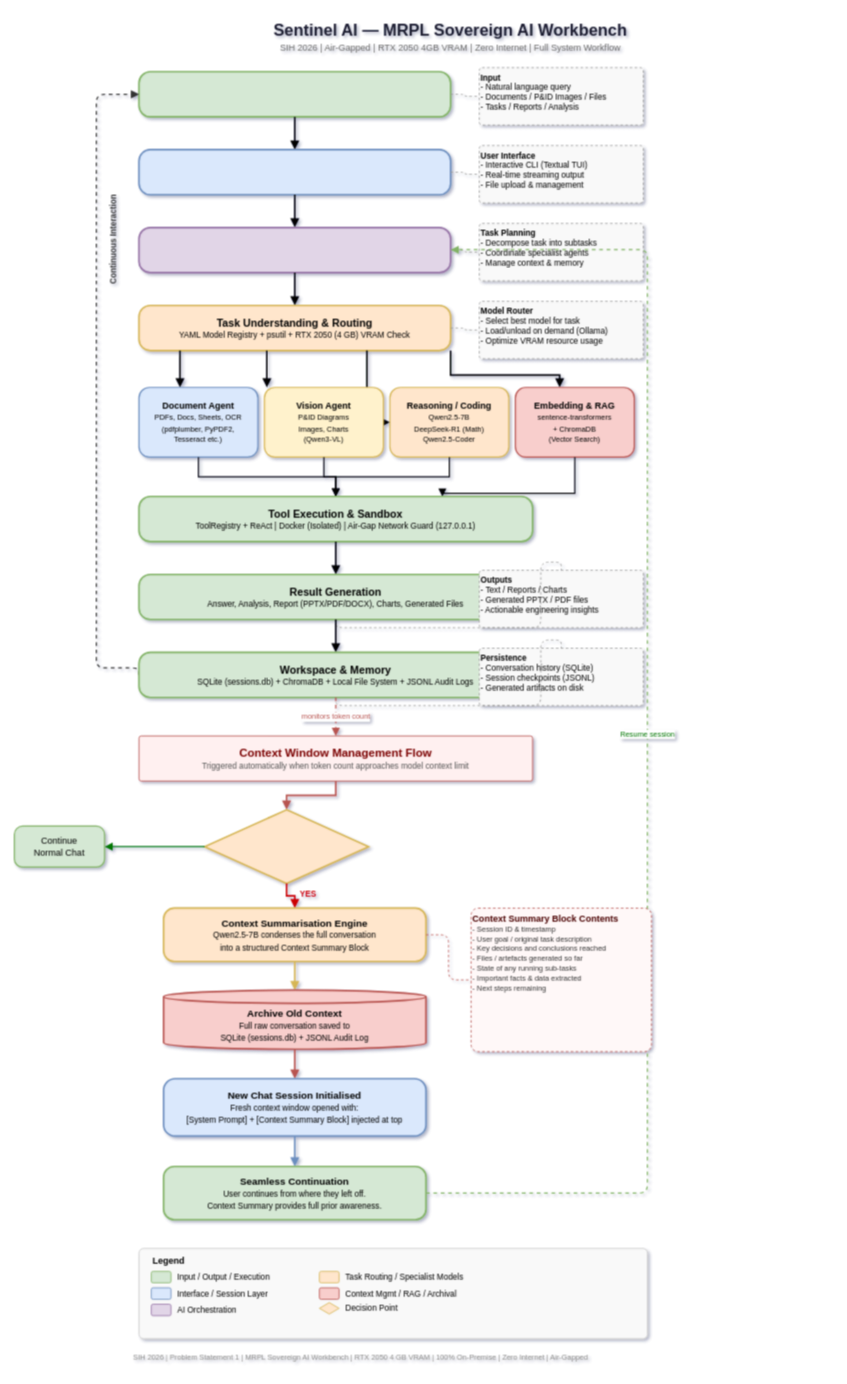
This 847x1384 diagram has some shape labels left out. Here are the shapes that lost their labels. From the top down, the centre of each, then its label:
At (294,94): "User MRPL Engineers / Operators / Technical Staff".
At (294,171): "CLI Workbench (TUI) Built with Python + Textual + Rich".
At (294,249): "AI Orchestrator Custom MasterAgent (Asyncio) + Qwen2.5-7B".
At (286,846): "Context Limit Reached? token_count ≥ threshold".
